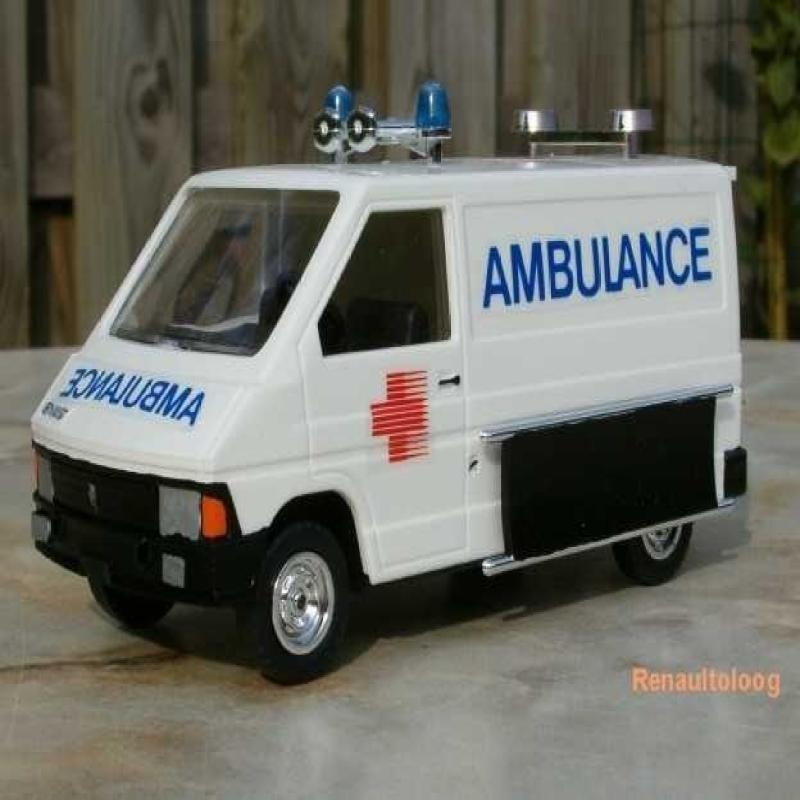AmbulanceSiren: (412, 67, 455, 142)
